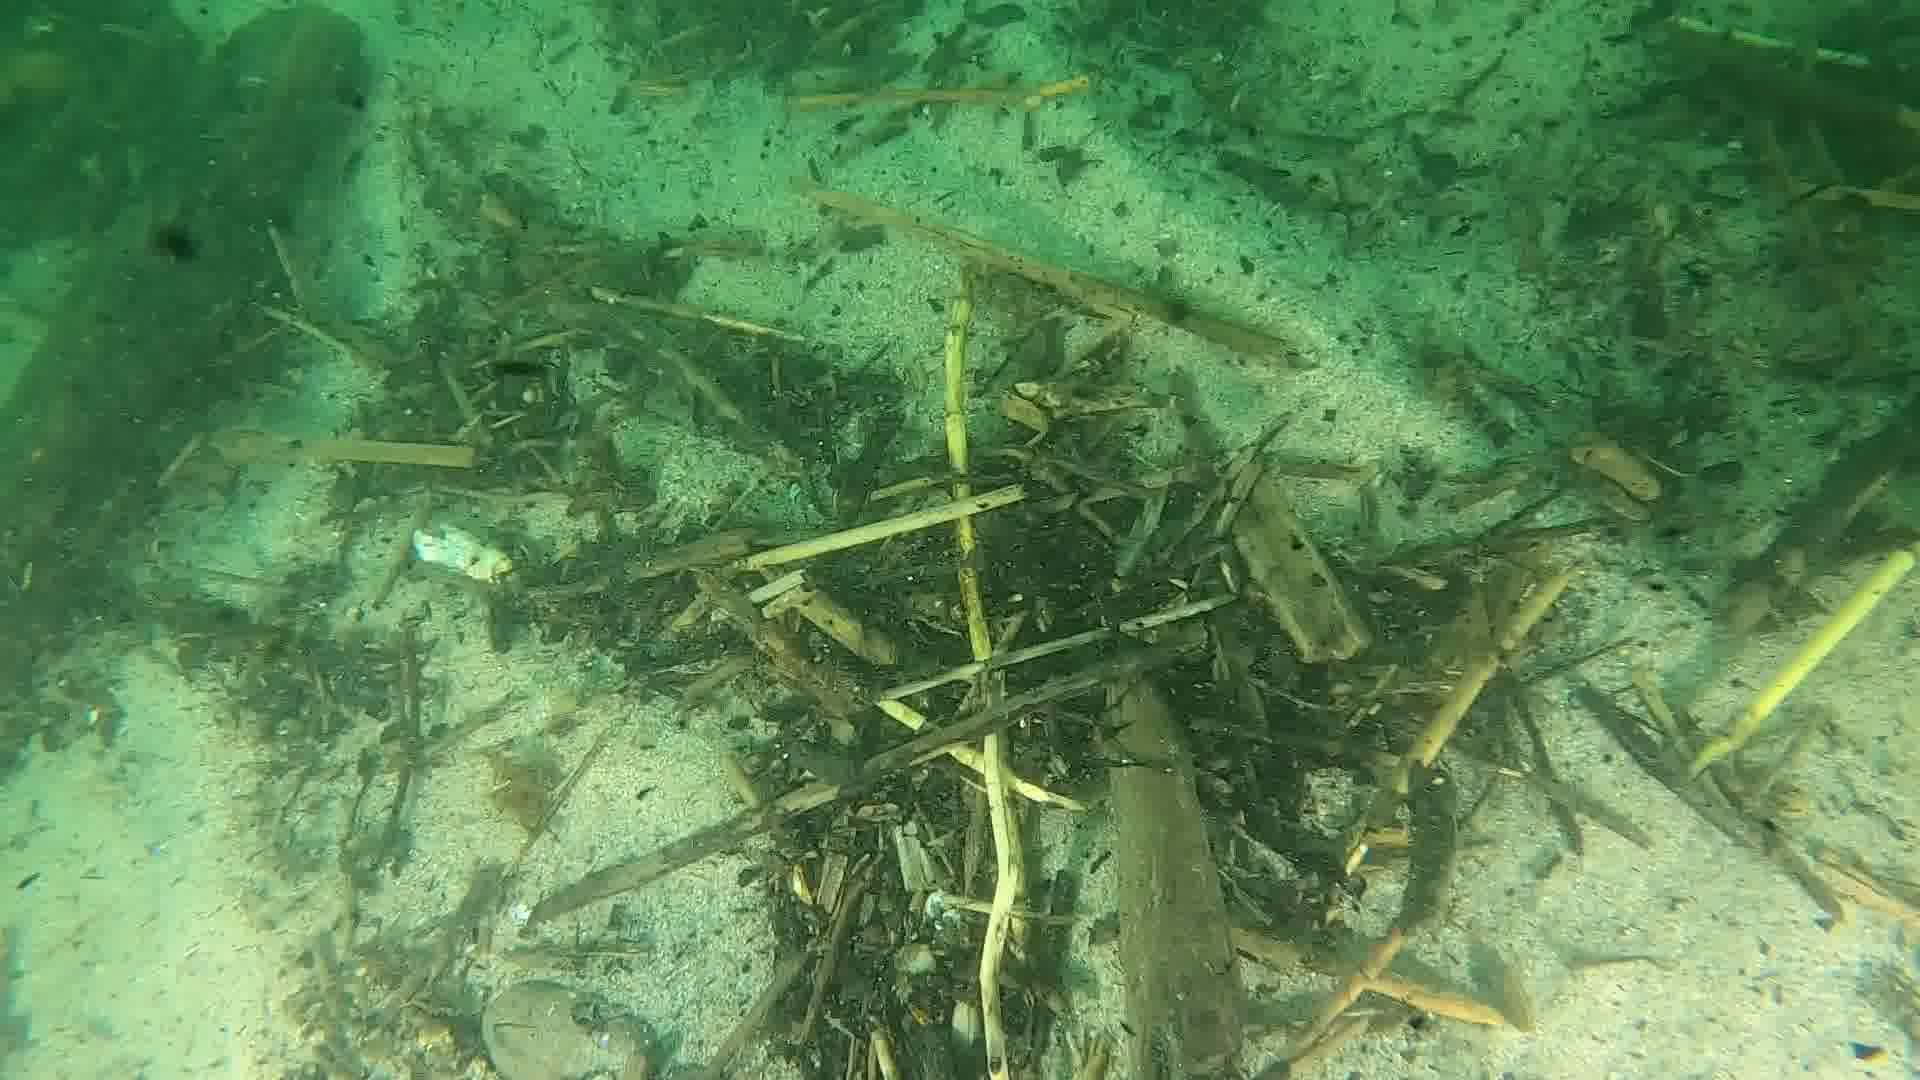wood: (1100, 651, 1246, 1080)
